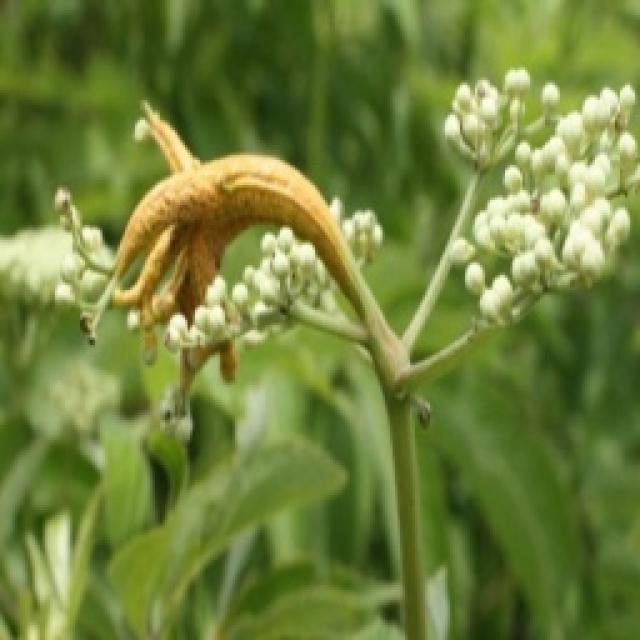Elderberry_rust: (87, 71, 366, 363)
